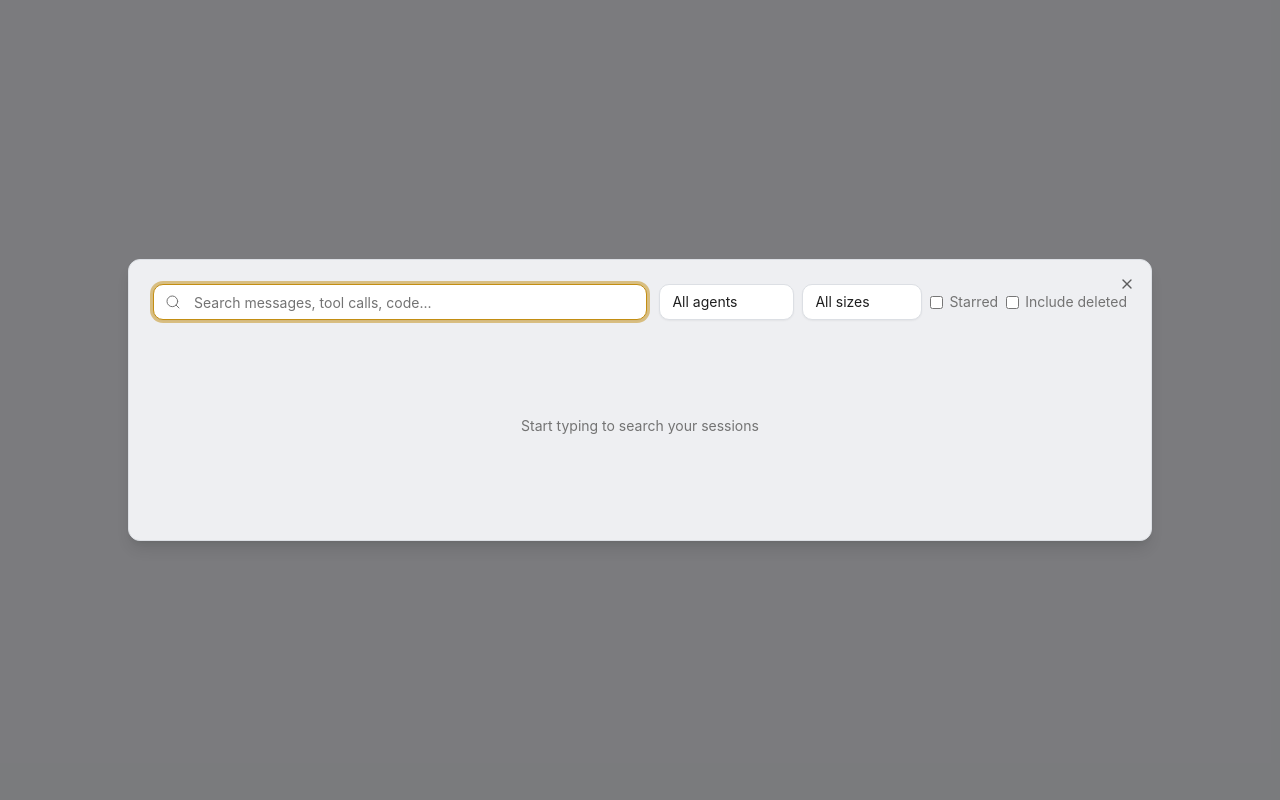
SearchDialog › shows error state when fetch fails
Type "x" into the search field with test id "search-input" at x=400, y=302, box [153,284,647,320]
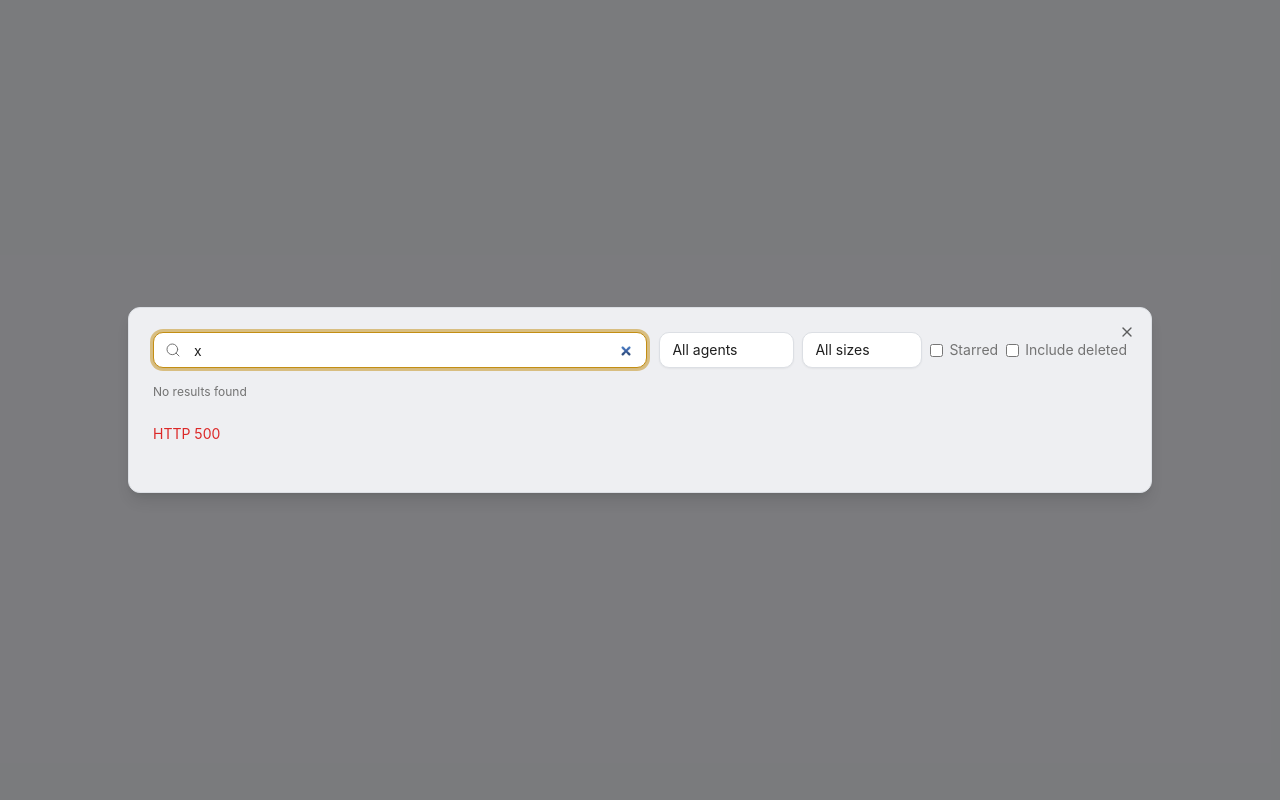
Result: the text "HTTP 500" is shown at [153,425,220,442]
